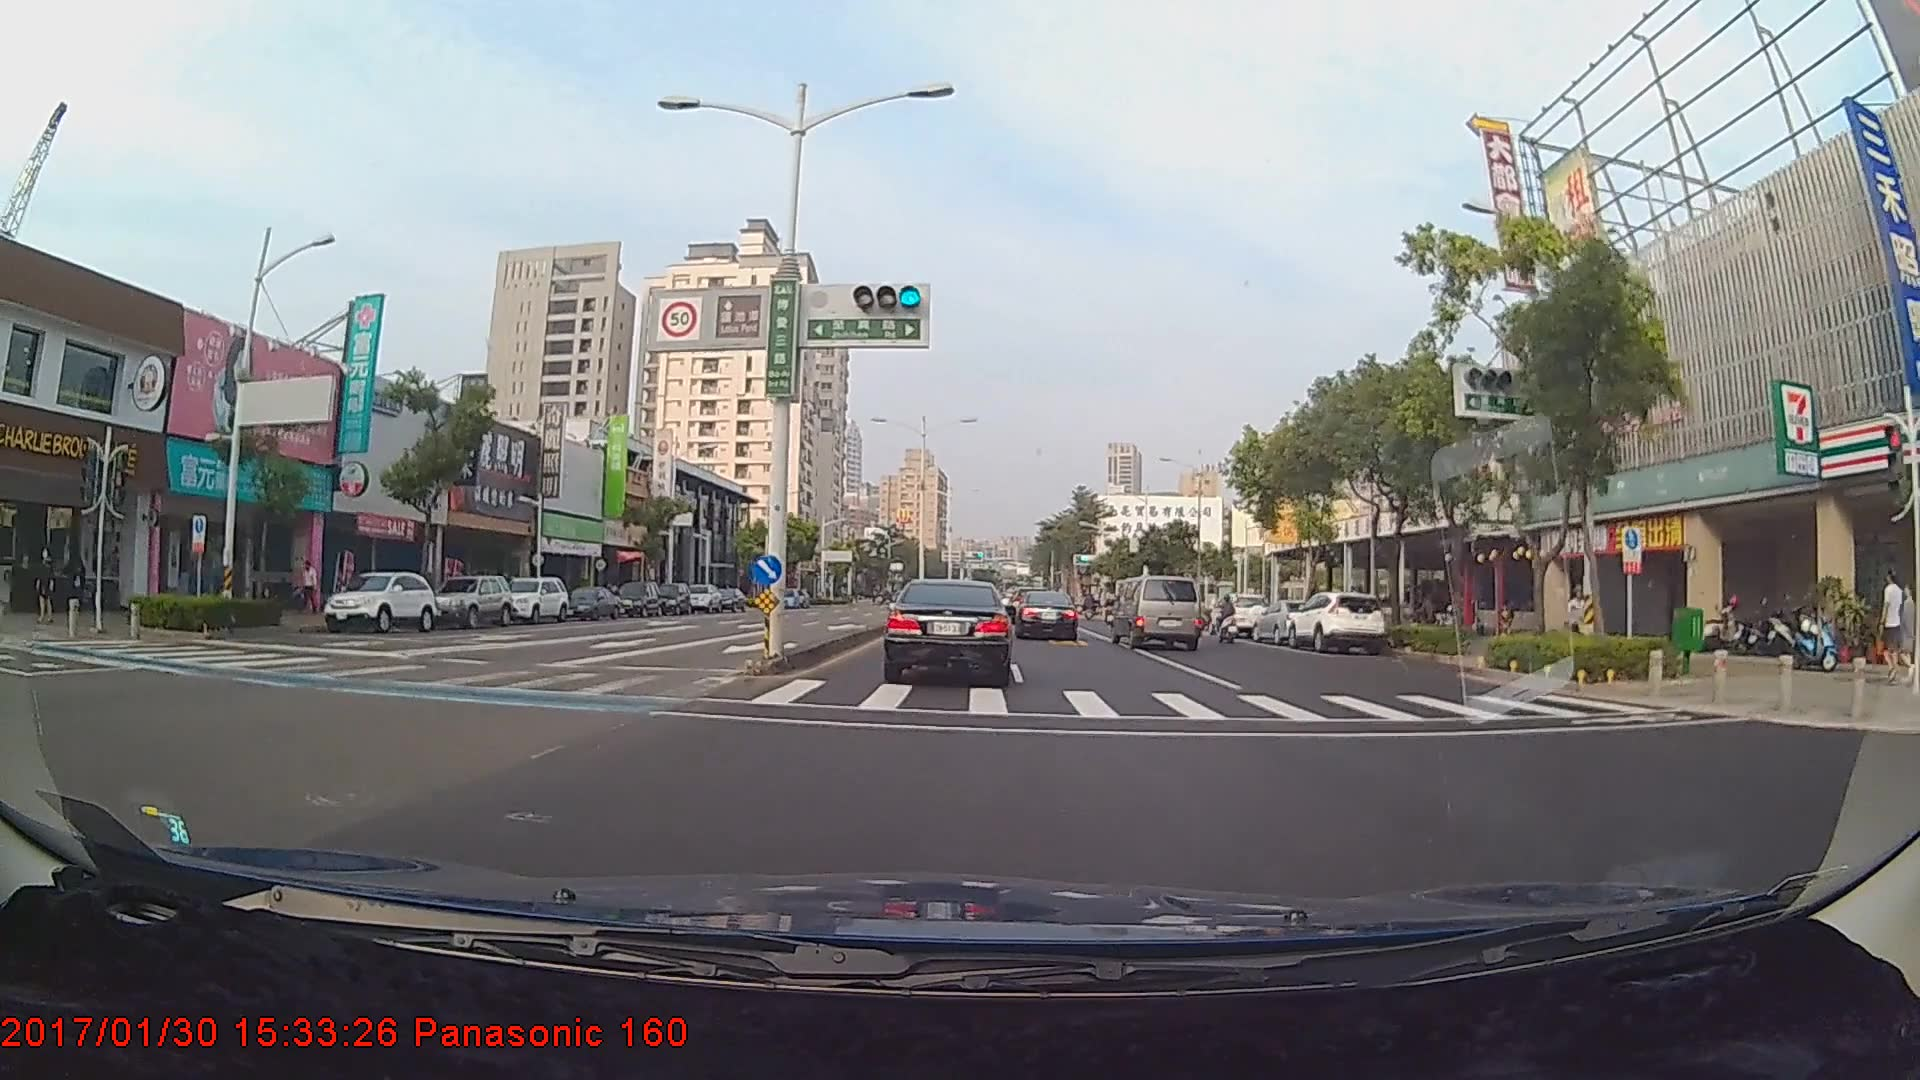pedestrian: (1878, 569, 1905, 679), (1896, 581, 1920, 678), (36, 545, 60, 625), (299, 558, 319, 615)
rider: (1211, 595, 1246, 646)
vehicle: (884, 578, 1013, 686), (320, 569, 438, 632), (1112, 574, 1202, 651), (1283, 589, 1388, 653), (420, 572, 512, 628), (496, 576, 570, 626), (1252, 598, 1325, 644), (1013, 591, 1078, 641), (557, 584, 618, 619), (613, 582, 662, 620), (649, 582, 692, 617)
